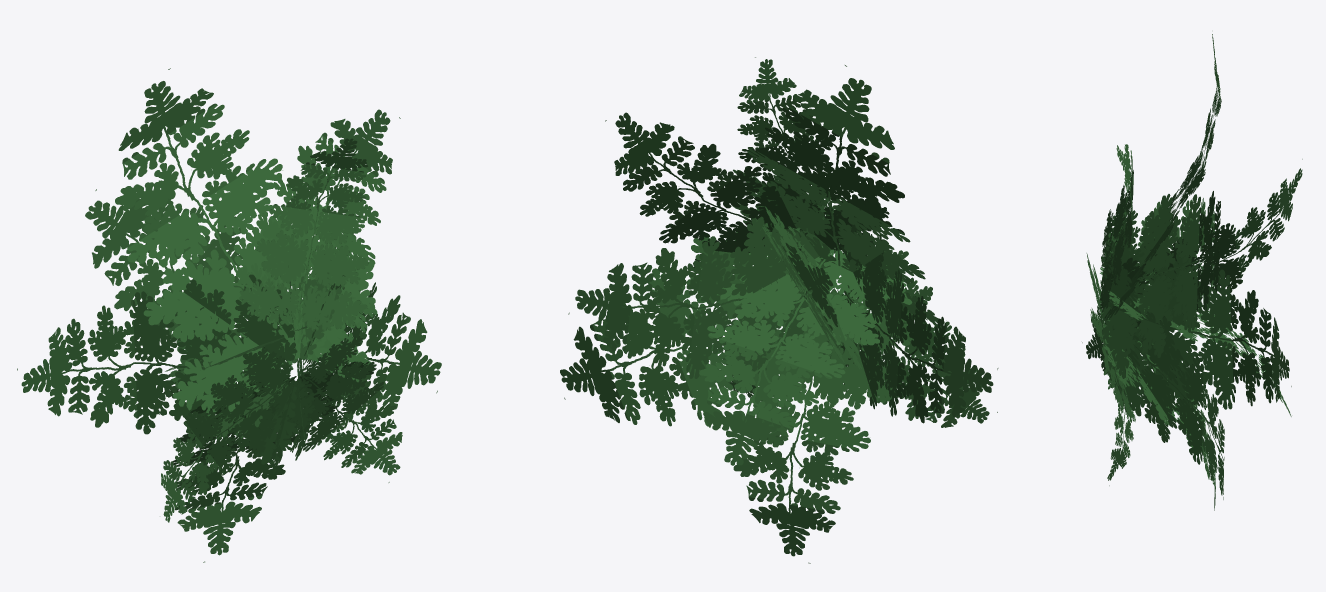
Rendered from fern.fbx.
The picture shows the model from 3 angles, left to right: view 1: azimuth 30°, elevation 25°; view 2: azimuth 150°, elevation 25°; view 3: azimuth 270°, elevation 25°; orthographic projection. The views are drawn at different scales.
Parts seen in each view (by area): view 1: Plane.006; view 2: Plane.006; view 3: Plane.006.
Part boxes in pixels (bbox=[...]): Plane.006: bbox=[17, 68, 441, 562]; Plane.006: bbox=[560, 57, 998, 563]; Plane.006: bbox=[1082, 34, 1302, 510].
Bounding box in the file's own units: 487 × 525 × 234.
